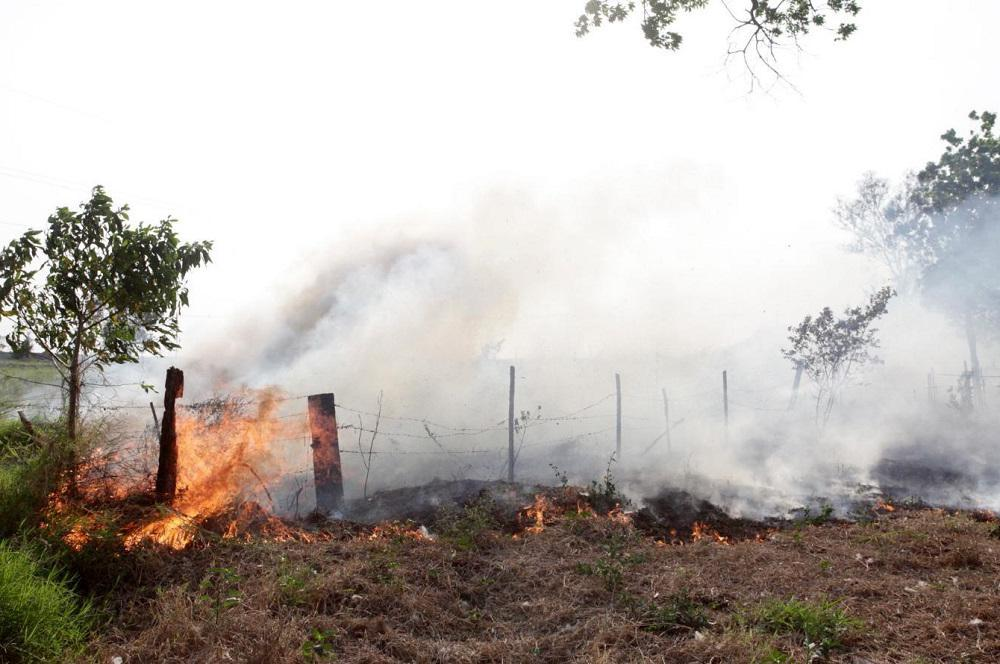Fire: (52, 386, 338, 545), (525, 494, 553, 535)
